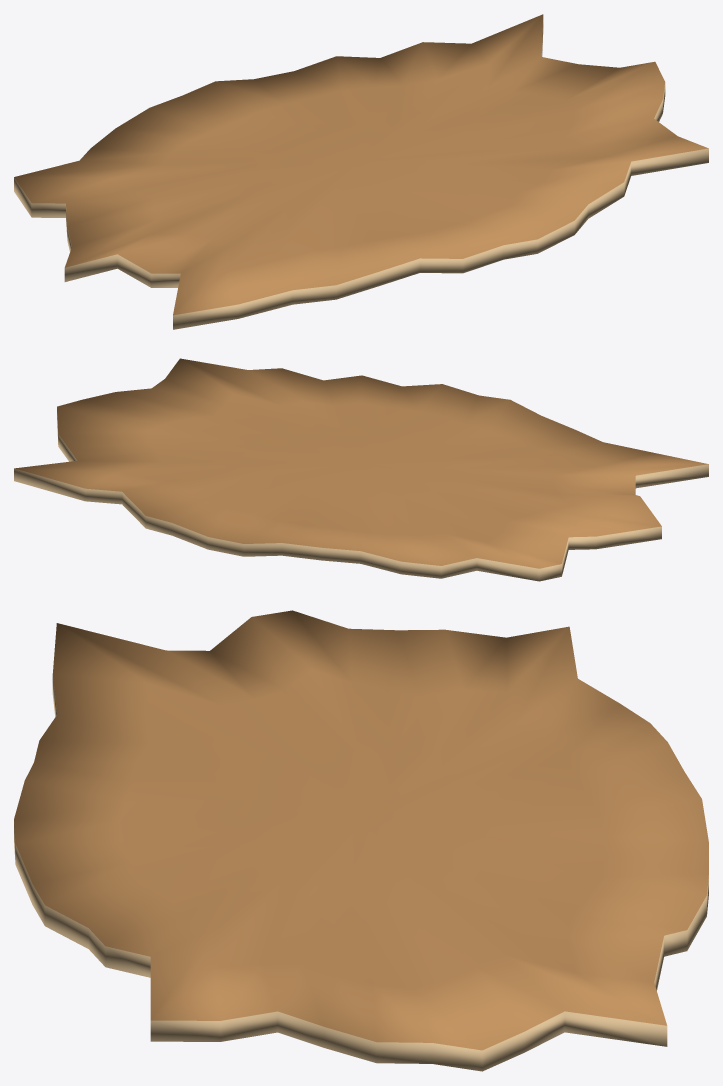
File: w3d_pelt_hide_s.glb
3 views of the same model, one above another, from view 1: azimuth 30°, elevation 25°; view 2: azimuth 150°, elevation 25°; view 3: azimuth 270°, elevation 25° (orthographic). The views are drawn at different scales.
Visible parts, largest first — view 1: w3d_pelt_hide_s; view 2: w3d_pelt_hide_s; view 3: w3d_pelt_hide_s.
Boxes of the visible parts, x1,y1,x2,y2 form: w3d_pelt_hide_s: (14, 14, 708, 329); w3d_pelt_hide_s: (14, 358, 708, 581); w3d_pelt_hide_s: (14, 610, 708, 1071).
Bounding box in the file's own units: 0.7413 × 0.0332 × 0.4786.
